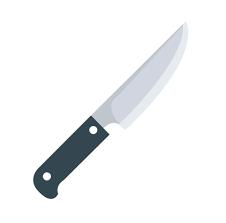Knife: (32, 21, 188, 199)
